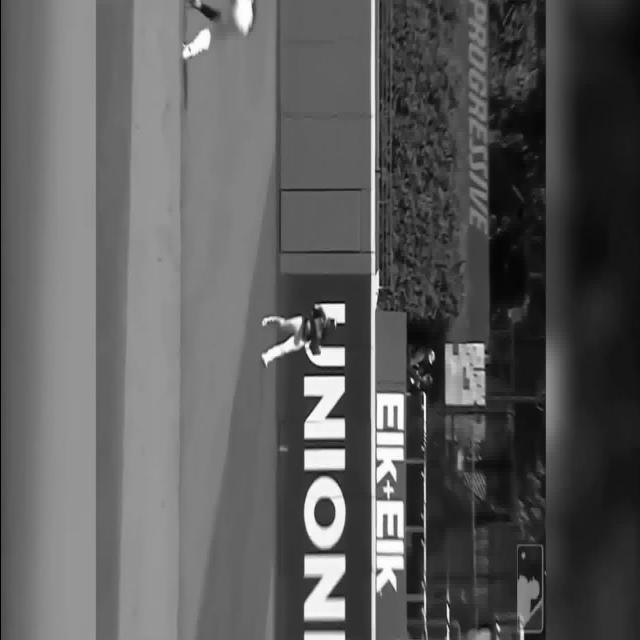baseball_glove: (309, 338, 321, 356)
shoe: (181, 41, 189, 59), (188, 0, 200, 9), (261, 351, 267, 367), (262, 316, 268, 326)
